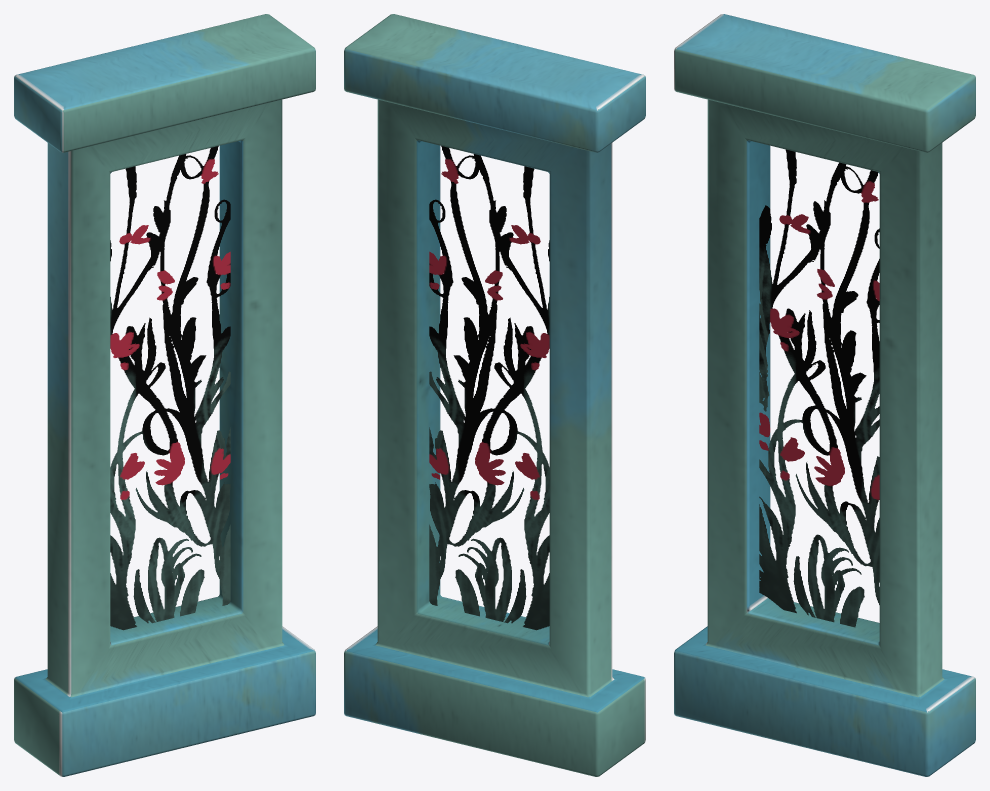
Rendered from TOMB_WINDOW_1.obj.
3 renders of one model, left to right at view 1: azimuth 30°, elevation 25°; view 2: azimuth 150°, elevation 25°; view 3: azimuth 330°, elevation 25°, orthographic.
Visible parts, largest first — view 1: TOMB_WINDOW_1.002; view 2: TOMB_WINDOW_1.002; view 3: TOMB_WINDOW_1.002.
Part boxes in pixels (left/top/right/bottom): TOMB_WINDOW_1.002: left=14, top=14, right=315, bottom=776; TOMB_WINDOW_1.002: left=344, top=14, right=645, bottom=776; TOMB_WINDOW_1.002: left=674, top=14, right=975, bottom=776.
Bounding box in the file's own units: 1.2 × 3 × 0.4.
